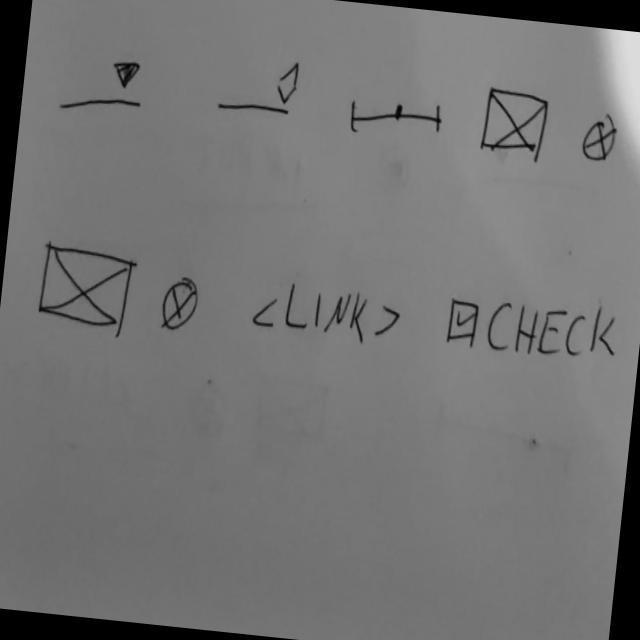checkbox: (445, 288, 624, 368)
image: (35, 238, 138, 336), (479, 84, 552, 159), (160, 275, 202, 336), (580, 112, 621, 168)
link: (250, 276, 405, 351)
number-input: (217, 51, 306, 121)
select: (58, 50, 149, 123)
slider: (348, 92, 446, 144)
